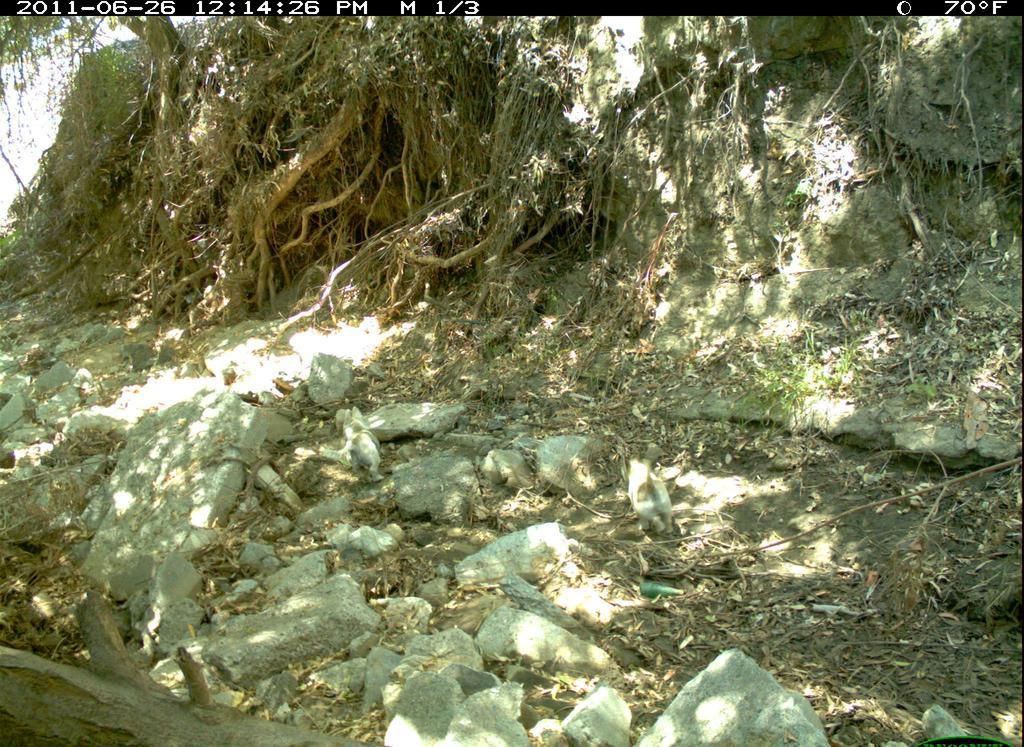dog: (606, 432, 696, 553), (337, 401, 386, 489)
